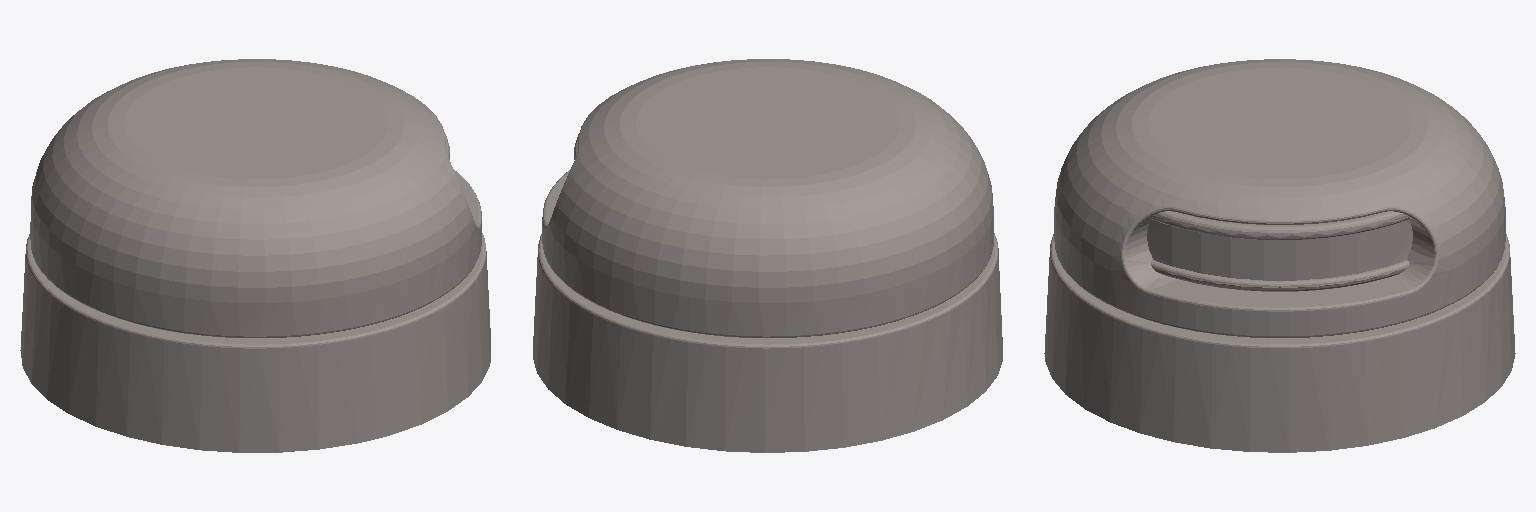
The robot description file, URDF, robot "Lidar.SLDPRT":
<robot
  name="Lidar.SLDPRT">
  <link
    name="lidar">
    <inertial>
      <origin
        xyz="-0.00056497 7.11770000114844E-09 0.018756"
        rpy="0 0 0" />
      <mass
        value="0.15915" />
      <inertia
        ixx="7.2795244626149E-05"
        ixy="8.59363271873857E-12"
        ixz="-1.00192037963258E-06"
        iyy="7.06968247556297E-05"
        iyz="-1.1608849365102E-11"
        izz="0.000102602650447107" />
    </inertial>
    <visual>
      <origin
        xyz="0 0 0"
        rpy="1.5707963267949 0 0" />
      <geometry>
        <mesh
          filename="package://lidar/meshes/lidar.STL" />
      </geometry>
      <material
        name="">
        <color
          rgba="0.64314 0.61569 0.6 1" />
      </material>
    </visual>
    <collision>
      <origin
        xyz="0 0 0"
        rpy="1.5707963267949 0 0" />
      <geometry>
        <mesh
          filename="package://lidar/meshes/lidar.STL" />
      </geometry>
    </collision>
  </link>
</robot>

--- Facts derived from the render (not from the file) ---
The picture shows the robot from 3 angles, left to right: view 1: azimuth 30°, elevation 25°; view 2: azimuth 150°, elevation 25°; view 3: azimuth 270°, elevation 25°; orthographic projection.
Model Lidar.SLDPRT with 1 links and 0 joints (none), rooted at lidar, posed all joints at 0.
Visible links, largest first — view 1: lidar; view 2: lidar; view 3: lidar.
Link boxes in pixels (x1=…): lidar: x1=20, y1=59, x2=490, y2=452; lidar: x1=533, y1=59, x2=1002, y2=452; lidar: x1=1044, y1=59, x2=1515, y2=452.
Bounding box of the posed robot: 0.0756 × 0.0757 × 0.0408 m (x, y, z).
Meshes: 1 distinct files referenced, 1 mesh visuals loaded (1 binary STL).